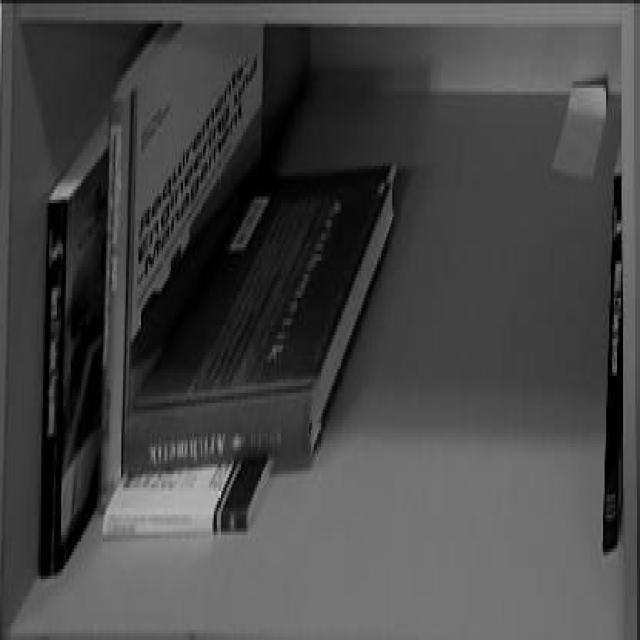book: (130, 161, 409, 455), (37, 174, 94, 569), (97, 452, 268, 538)
